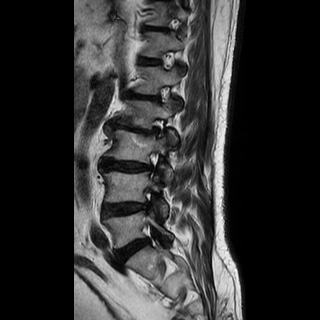LFS0: (152, 78, 174, 111)
